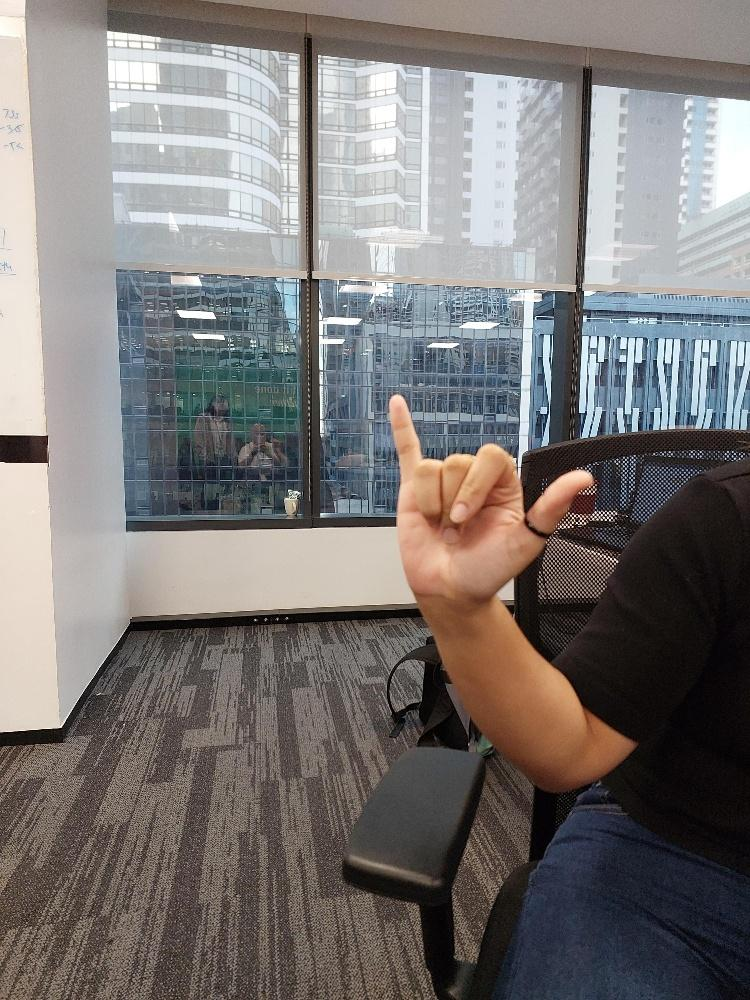y: (384, 390, 595, 610)
